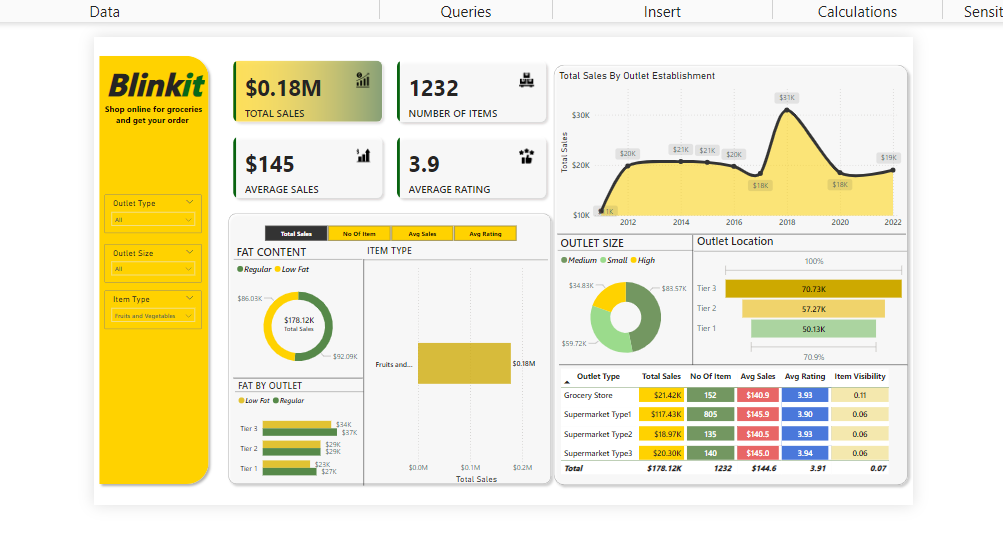

What the dashboard file says about the page in this screenshot:
{"tool":"powerbi","page":{"name":"Page 1","canvas":[1400,800],"ordinal":0},"visuals":[{"type":"shape","box":[0,24.3,204.9,750.2],"z":0},{"type":"textbox","box":[10.4,38.2,184.1,83.4],"z":1000},{"type":"textbox","box":[0,107.7,203.2,52.1],"z":2000},{"type":"cardVisual","fields":{"Data":["BlinkIT Grocery Data.Total Sales","BlinkIT Grocery Data.Number Of Item","BlinkIT Grocery Data.Average Sales","BlinkIT Grocery Data.Avreage Rating"]},"box":[220.6,24.3,569.6,269.2],"z":3000},{"type":"shape","box":[221,293,570,481],"z":4000},{"type":"donutChart","title":"FAT CONTENT","fields":{"Y":["BlinkIT Grocery Data.Total Sales"],"Category":["BlinkIT Grocery Data.Item Fat Content"]},"box":[239.7,354.3,220.6,229.2],"z":5000},{"type":"slicer","fields":{"Values":["Matrix.Matrix"]},"box":[265.7,314.3,479.3,39.9],"z":6000},{"type":"cardVisual","fields":{"Data":["BlinkIT Grocery Data.Total Sales"]},"box":[307.4,456.7,93.8,76.4],"z":7000},{"type":"clusteredBarChart","title":"FAT BY OUTLET","fields":{"Y":["BlinkIT Grocery Data.Total Sales"],"Category":["BlinkIT Grocery Data.Outlet Location Type"],"Series":["BlinkIT Grocery Data.Item Fat Content"]},"box":[240,584,220,184],"z":8000},{"type":"shape","box":[239.7,567.9,220.6,33],"z":9000},{"type":"shape","box":[446.3,380.3,29.5,387.3],"z":10000},{"type":"barChart","title":"ITEM TYPE","fields":{"Y":["BlinkIT Grocery Data.Total Sales"],"Category":["BlinkIT Grocery Data.Item Type"]},"box":[461.9,354.3,314.3,413.3],"z":11000},{"type":"shape","box":[776.3,38.2,623.5,736.3],"z":12000},{"type":"lineChart","title":"Total Sales By Outlet Establishment ","fields":{"Y":["BlinkIT Grocery Data.Total Sales"],"Category":["BlinkIT Grocery Data.Outlet Establishment Year"]},"box":[790.2,55.6,595.7,279.6],"z":13000},{"type":"shape","box":[791.9,321.3,595.7,33],"z":14000},{"type":"donutChart","title":"OUTLET SIZE","fields":{"Y":["BlinkIT Grocery Data.Total Sales"],"Category":["BlinkIT Grocery Data.Outlet Size"]},"box":[791.9,338.6,232.7,229.2],"z":15000},{"type":"funnel","title":"Outlet Location","fields":{"Y":["Sum(BlinkIT Grocery Data.Sales)"],"Category":["BlinkIT Grocery Data.Outlet Location Type"]},"box":[1024.6,335.2,364.7,225.8],"z":16000},{"type":"shape","box":[1010.7,338.6,26,222.3],"z":17000},{"type":"shape","box":[793.7,543.6,595.7,33],"z":18000},{"type":"tableEx","fields":{"Values":["BlinkIT Grocery Data.Outlet Type","BlinkIT Grocery Data.Total Sales","BlinkIT Grocery Data.Number Of Item","BlinkIT Grocery Data.Average Sales","BlinkIT Grocery Data.Avreage Rating","Avg(BlinkIT Grocery Data.Item Visibility)"]},"box":[791.9,560.9,593.9,194.5],"z":19000},{"type":"slicer","title":"Outlet Location Type","fields":{"Values":["BlinkIT Grocery Data.Outlet Type"]},"box":[18,268,166,66],"z":20000},{"type":"slicer","title":"Outlet Location Type","fields":{"Values":["BlinkIT Grocery Data.Outlet Size"]},"box":[18,354,166,66],"z":21000},{"type":"slicer","title":"Outlet Location Type","fields":{"Values":["BlinkIT Grocery Data.Item Type"]},"box":[18,434,166,66],"z":22000}]}

Visuals, with their boxes on the page's 1400x800 design canvas (x1, y1, x2, y2). These are canvas units, not pixel positions in the 1003x543 screenshot, which may show the page scaled, cropped or inside an application window:
shape: [left=0, top=24, right=205, bottom=774]
textbox: [left=10, top=38, right=194, bottom=122]
textbox: [left=0, top=108, right=203, bottom=160]
cardVisual - BlinkIT Grocery Data.Total Sales x BlinkIT Grocery Data.Number Of Item: [left=221, top=24, right=790, bottom=294]
shape: [left=221, top=293, right=791, bottom=774]
"FAT CONTENT" donutChart: [left=240, top=354, right=460, bottom=584]
slicer - Matrix.Matrix: [left=266, top=314, right=745, bottom=354]
cardVisual - BlinkIT Grocery Data.Total Sales: [left=307, top=457, right=401, bottom=533]
"FAT BY OUTLET" clusteredBarChart: [left=240, top=584, right=460, bottom=768]
shape: [left=240, top=568, right=460, bottom=601]
shape: [left=446, top=380, right=476, bottom=768]
"ITEM TYPE" barChart: [left=462, top=354, right=776, bottom=768]
shape: [left=776, top=38, right=1400, bottom=774]
"Total Sales By Outlet Establishment " lineChart: [left=790, top=56, right=1386, bottom=335]
shape: [left=792, top=321, right=1388, bottom=354]
"OUTLET SIZE" donutChart: [left=792, top=339, right=1025, bottom=568]
"Outlet Location" funnel: [left=1025, top=335, right=1389, bottom=561]
shape: [left=1011, top=339, right=1037, bottom=561]
shape: [left=794, top=544, right=1389, bottom=577]
tableEx - BlinkIT Grocery Data.Outlet Type x BlinkIT Grocery Data.Total Sales: [left=792, top=561, right=1386, bottom=755]
"Outlet Location Type" slicer: [left=18, top=268, right=184, bottom=334]
"Outlet Location Type" slicer: [left=18, top=354, right=184, bottom=420]
"Outlet Location Type" slicer: [left=18, top=434, right=184, bottom=500]
